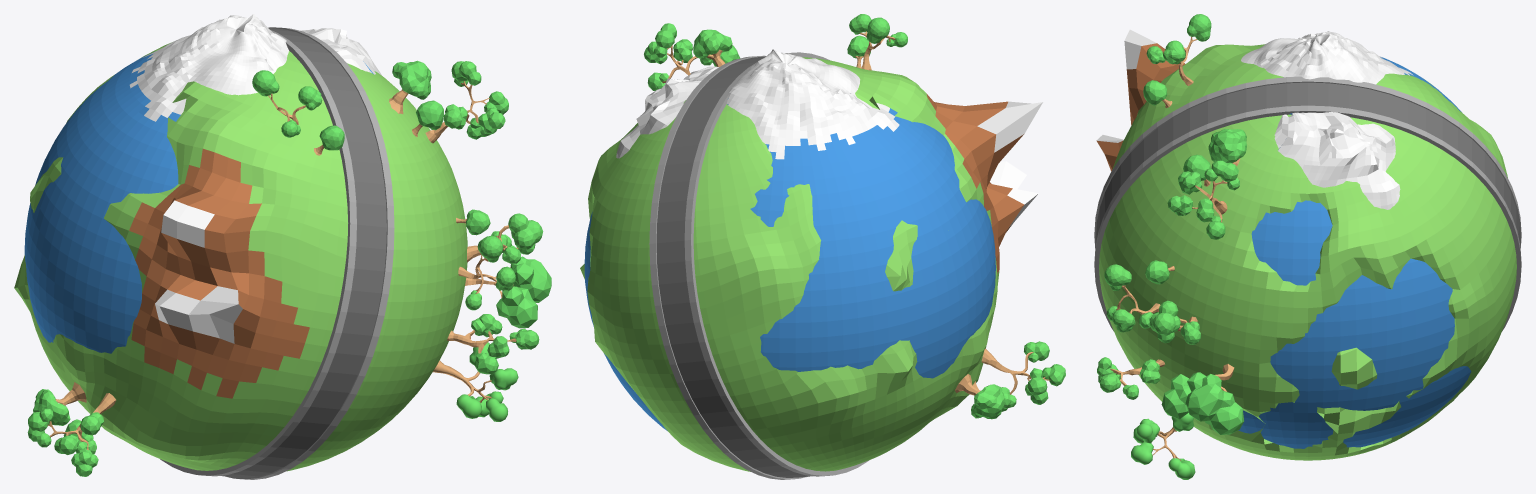
The model's file is little_earth+trees2.gltf.
The picture shows the model from 3 angles, left to right: view 1: azimuth 30°, elevation 25°; view 2: azimuth 150°, elevation 25°; view 3: azimuth 270°, elevation 25°; orthographic projection. The views are drawn at different scales.
Visible parts, largest first — view 1: Sphere, Sphere.001, Cylinder, Cylinder.001, Cylinder.002, LowPoly_Tree_04_lowpoly_tree_05_Mesh.002, LowPoly_Tree_07_lowpoly_tree_04_Plane.012, LowPoly_Tree_04_lowpoly_tree_05_Mesh.001, LowPoly_Tree_04_lowpoly_tree_05_Mesh.003, LowPoly_Tree_05_lowpoly_tree_03_Cube, LowPoly_Tree_06_lowpoly_tree_02_Mesh.005, LowPoly_Tree_03_lowpoly_tree_01_Plane.001 (+5 smaller); view 2: Sphere, Sphere.001, Cylinder, Cylinder.001, Cylinder.002, LowPoly_Tree_04_lowpoly_tree_05_Mesh.002, LowPoly_Tree_04_lowpoly_tree_05_Mesh.001, LowPoly_Tree_03_lowpoly_tree_01_Plane.013, LowPoly_Tree_02_Cube.002, LowPoly_Tree_02_Cube.000; view 3: Sphere, Sphere.001, Cylinder, Cylinder.002, LowPoly_Tree_07_lowpoly_tree_04_Plane.012, Cylinder.001, LowPoly_Tree_04_lowpoly_tree_05_Mesh.001, LowPoly_Tree_04_lowpoly_tree_05_Mesh.003, LowPoly_Tree_06_lowpoly_tree_02_Mesh.005, LowPoly_Tree_05_lowpoly_tree_03_Cube, LowPoly_Tree_03_lowpoly_tree_01_Plane.013, LowPoly_Tree_03_lowpoly_tree_01_Plane.001 (+4 smaller).
Part boxes in pixels (x1,y1,x2,y2): Sphere: [14, 42, 467, 471]; Sphere.001: [24, 14, 381, 353]; Cylinder: [221, 27, 386, 477]; Cylinder.001: [160, 30, 356, 476]; Cylinder.002: [225, 27, 394, 479]; LowPoly_Tree_04_lowpoly_tree_05_Mesh.002: [27, 393, 116, 476]; LowPoly_Tree_07_lowpoly_tree_04_Plane.012: [465, 256, 551, 328]; LowPoly_Tree_04_lowpoly_tree_05_Mesh.001: [425, 61, 508, 143]; LowPoly_Tree_04_lowpoly_tree_05_Mesh.003: [433, 342, 518, 421]; LowPoly_Tree_05_lowpoly_tree_03_Cube: [447, 314, 539, 374]; LowPoly_Tree_06_lowpoly_tree_02_Mesh.005: [467, 213, 543, 263]; LowPoly_Tree_03_lowpoly_tree_01_Plane.001: [458, 235, 515, 310]; Sphere: [580, 57, 1042, 471]; Sphere.001: [584, 49, 995, 430]; Cylinder: [656, 56, 812, 477]; Cylinder.001: [684, 52, 869, 476]; Cylinder.002: [649, 55, 807, 479]; LowPoly_Tree_04_lowpoly_tree_05_Mesh.002: [981, 341, 1065, 411]; LowPoly_Tree_04_lowpoly_tree_05_Mesh.001: [644, 23, 713, 90]; LowPoly_Tree_03_lowpoly_tree_01_Plane.013: [849, 14, 907, 70]; LowPoly_Tree_02_Cube.002: [955, 374, 1005, 418]; LowPoly_Tree_02_Cube.000: [693, 29, 731, 66]; Sphere: [1096, 29, 1516, 460]; Sphere.001: [1238, 31, 1471, 448]; Cylinder: [1095, 82, 1520, 244]; Cylinder.002: [1094, 105, 1521, 331]; LowPoly_Tree_07_lowpoly_tree_04_Plane.012: [1161, 364, 1244, 434]; Cylinder.001: [1094, 76, 1521, 247]; LowPoly_Tree_04_lowpoly_tree_05_Mesh.001: [1167, 160, 1239, 239]; LowPoly_Tree_04_lowpoly_tree_05_Mesh.003: [1131, 413, 1195, 479]; LowPoly_Tree_06_lowpoly_tree_02_Mesh.005: [1139, 300, 1200, 344]; LowPoly_Tree_05_lowpoly_tree_03_Cube: [1097, 357, 1164, 399]; LowPoly_Tree_03_lowpoly_tree_01_Plane.013: [1146, 14, 1211, 85]; LowPoly_Tree_03_lowpoly_tree_01_Plane.001: [1104, 264, 1160, 332].
Size of the model in its own units: 25.61 by 21.47 by 20.32.
